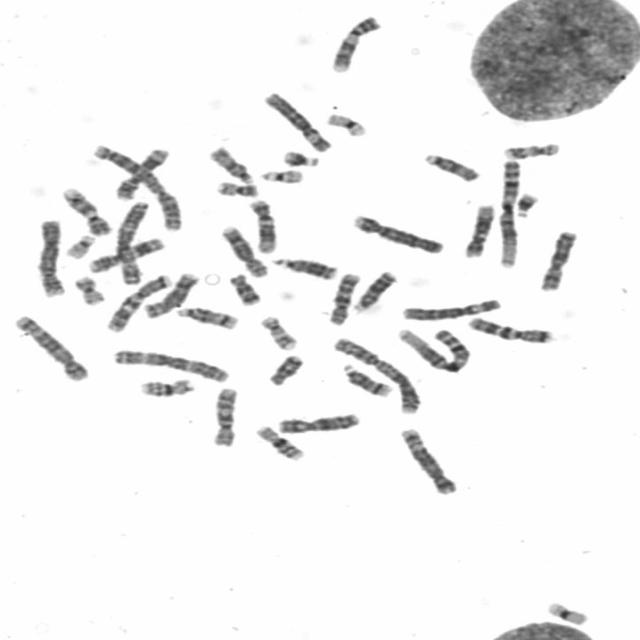A1: (393, 324, 473, 373), (494, 155, 526, 270)
A2: (88, 140, 188, 233), (330, 333, 425, 415)
A3: (107, 344, 233, 384), (111, 198, 152, 286)
B4: (348, 210, 446, 256), (33, 215, 68, 298)
B5: (10, 310, 92, 383), (396, 424, 460, 496)
C10: (205, 382, 241, 448), (323, 268, 362, 326)
C11: (111, 144, 172, 202), (83, 233, 167, 273)
C12: (244, 196, 281, 255), (460, 200, 497, 259)
C6: (260, 88, 334, 154), (398, 294, 504, 322)
C7: (102, 271, 174, 333), (464, 312, 556, 345)
C8: (138, 268, 202, 319), (216, 221, 272, 278)
C9: (327, 11, 384, 74), (57, 182, 114, 236)
D13: (350, 266, 400, 313), (268, 253, 340, 281)
D14: (339, 359, 395, 398), (172, 302, 242, 331)
D15: (206, 143, 257, 185), (419, 149, 482, 183)
E16: (250, 421, 306, 462), (135, 374, 197, 398)
E17: (256, 312, 300, 352), (498, 138, 562, 160)
E18: (264, 350, 306, 387), (224, 269, 264, 306)
F19: (542, 598, 592, 626), (322, 109, 370, 137)
F20: (69, 272, 108, 306), (211, 177, 261, 198)
G21: (278, 146, 323, 168), (511, 188, 541, 218)
G22: (61, 230, 98, 260), (256, 164, 306, 184)
X: (535, 226, 581, 292), (274, 409, 364, 435)
